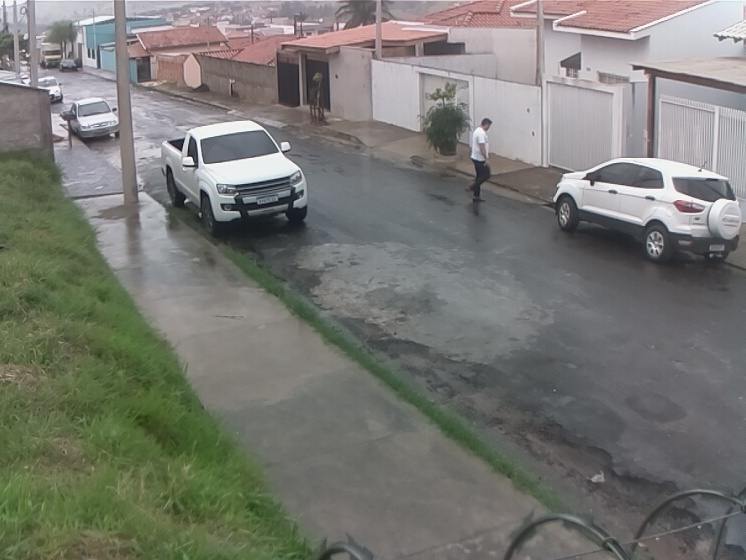person: (462, 117, 496, 206)
